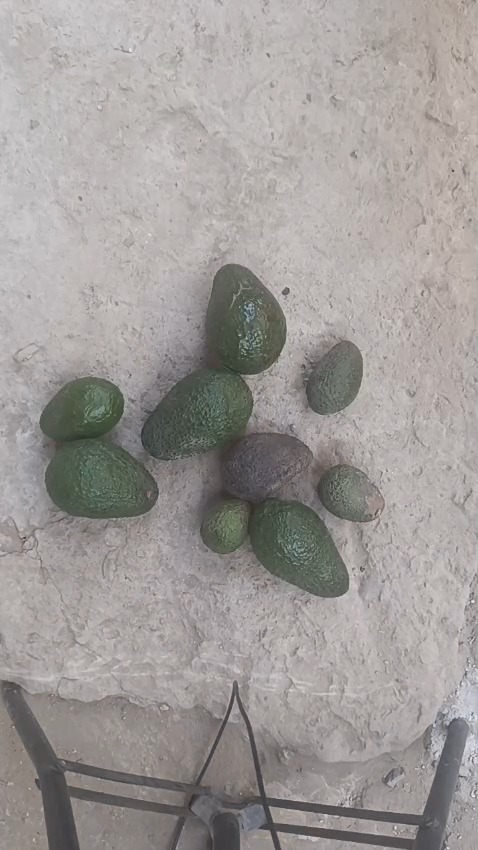Primera: (140, 366, 254, 458), (247, 497, 345, 595), (204, 262, 287, 374), (44, 438, 158, 518)
Segunda: (220, 432, 313, 502), (39, 377, 126, 443)
Tercera: (305, 340, 363, 415), (317, 464, 385, 522), (200, 494, 253, 553)
